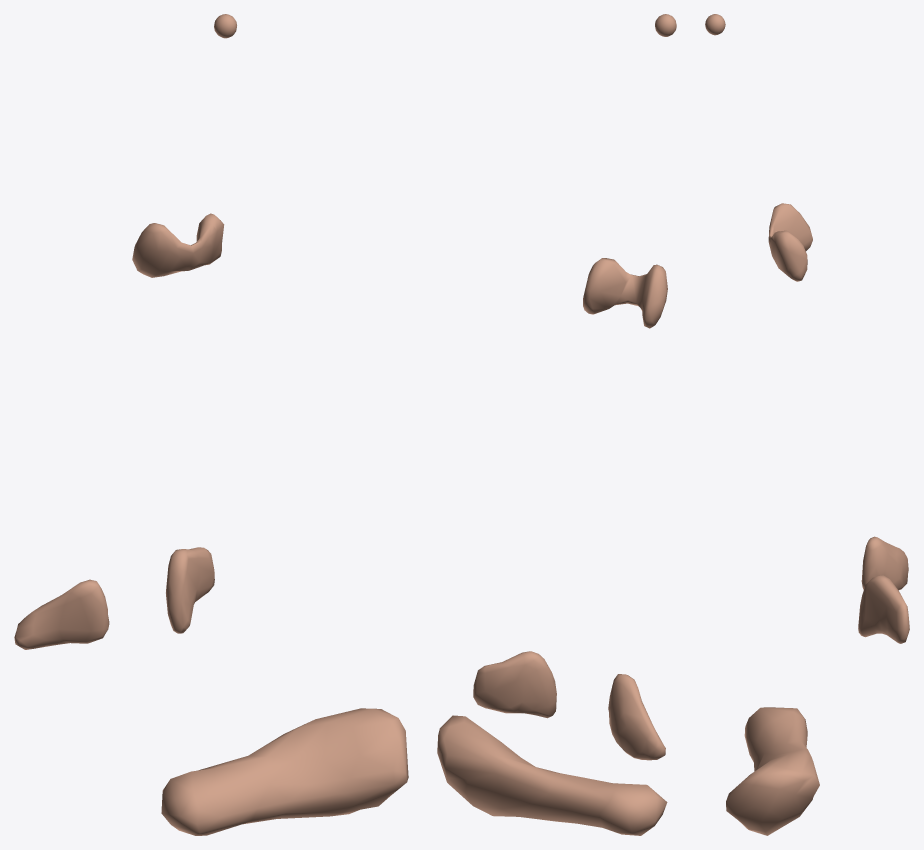
File: pediatric_infant_male.endocrine.LOD1.glb
3 views of the same model, side by side, from view 1: azimuth 30°, elevation 25°; view 2: azimuth 150°, elevation 25°; view 3: azimuth 270°, elevation 25° (orthographic). The views are drawn at different scales.
Parts seen in each view (by area): view 1: PEDIATRIC.INFANT.MALE.ENDOCRINE.PANCREAS, PEDIATRIC.INFANT.MALE.ENDOCRINE.ADRENAL.R, PEDIATRIC.INFANT.MALE.ENDOCRINE.THYROID, PEDIATRIC.INFANT.MALE.ENDOCRINE.ADRENAL.L; view 2: PEDIATRIC.INFANT.MALE.ENDOCRINE.PANCREAS, PEDIATRIC.INFANT.MALE.ENDOCRINE.ADRENAL.L, PEDIATRIC.INFANT.MALE.ENDOCRINE.THYROID, PEDIATRIC.INFANT.MALE.ENDOCRINE.ADRENAL.R; view 3: PEDIATRIC.INFANT.MALE.ENDOCRINE.PANCREAS, PEDIATRIC.INFANT.MALE.ENDOCRINE.ADRENAL.L, PEDIATRIC.INFANT.MALE.ENDOCRINE.THYROID, PEDIATRIC.INFANT.MALE.ENDOCRINE.ADRENAL.R.
Part boxes in pixels (bbox=[...]): PEDIATRIC.INFANT.MALE.ENDOCRINE.PANCREAS: bbox=[161, 708, 408, 835]; PEDIATRIC.INFANT.MALE.ENDOCRINE.ADRENAL.R: bbox=[14, 579, 109, 649]; PEDIATRIC.INFANT.MALE.ENDOCRINE.THYROID: bbox=[132, 213, 224, 277]; PEDIATRIC.INFANT.MALE.ENDOCRINE.ADRENAL.L: bbox=[166, 547, 214, 633]; PEDIATRIC.INFANT.MALE.ENDOCRINE.PANCREAS: bbox=[437, 715, 667, 835]; PEDIATRIC.INFANT.MALE.ENDOCRINE.ADRENAL.L: bbox=[473, 651, 556, 718]; PEDIATRIC.INFANT.MALE.ENDOCRINE.THYROID: bbox=[583, 258, 667, 328]; PEDIATRIC.INFANT.MALE.ENDOCRINE.ADRENAL.R: bbox=[608, 674, 665, 760]; PEDIATRIC.INFANT.MALE.ENDOCRINE.PANCREAS: bbox=[726, 707, 819, 835]; PEDIATRIC.INFANT.MALE.ENDOCRINE.ADRENAL.L: bbox=[858, 575, 909, 643]; PEDIATRIC.INFANT.MALE.ENDOCRINE.THYROID: bbox=[768, 203, 812, 281]; PEDIATRIC.INFANT.MALE.ENDOCRINE.ADRENAL.R: bbox=[861, 536, 908, 590].
Bounding box in the file's own units: 0.1013 × 0.2686 × 0.0664.
